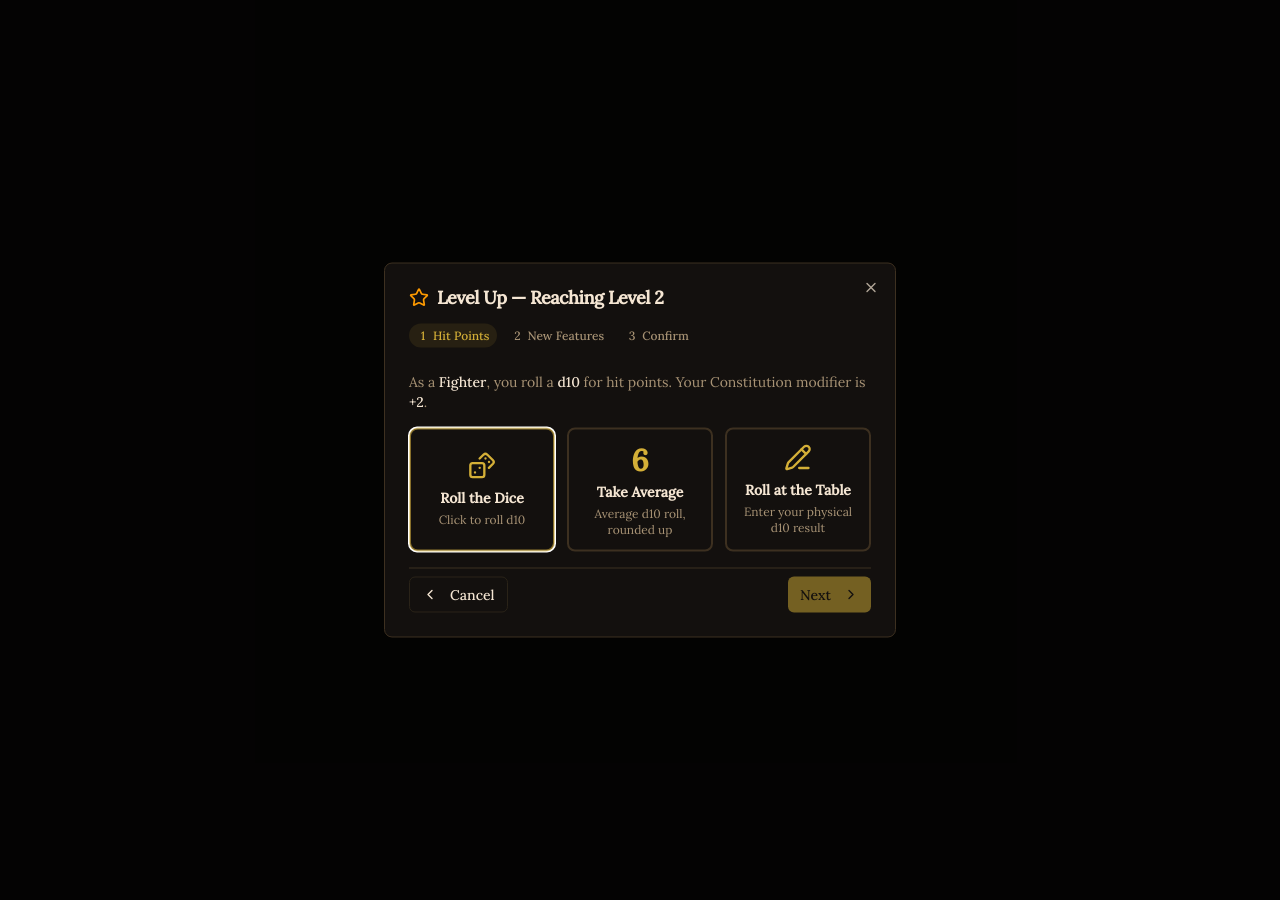
Test: LevelUpWizard › HP step — methods and lock-in › locks the other methods once Take Average is chosen
Click the button with test id "hp-method-average". click: (640, 490)
box: x1=567 y1=428 x2=713 y2=552
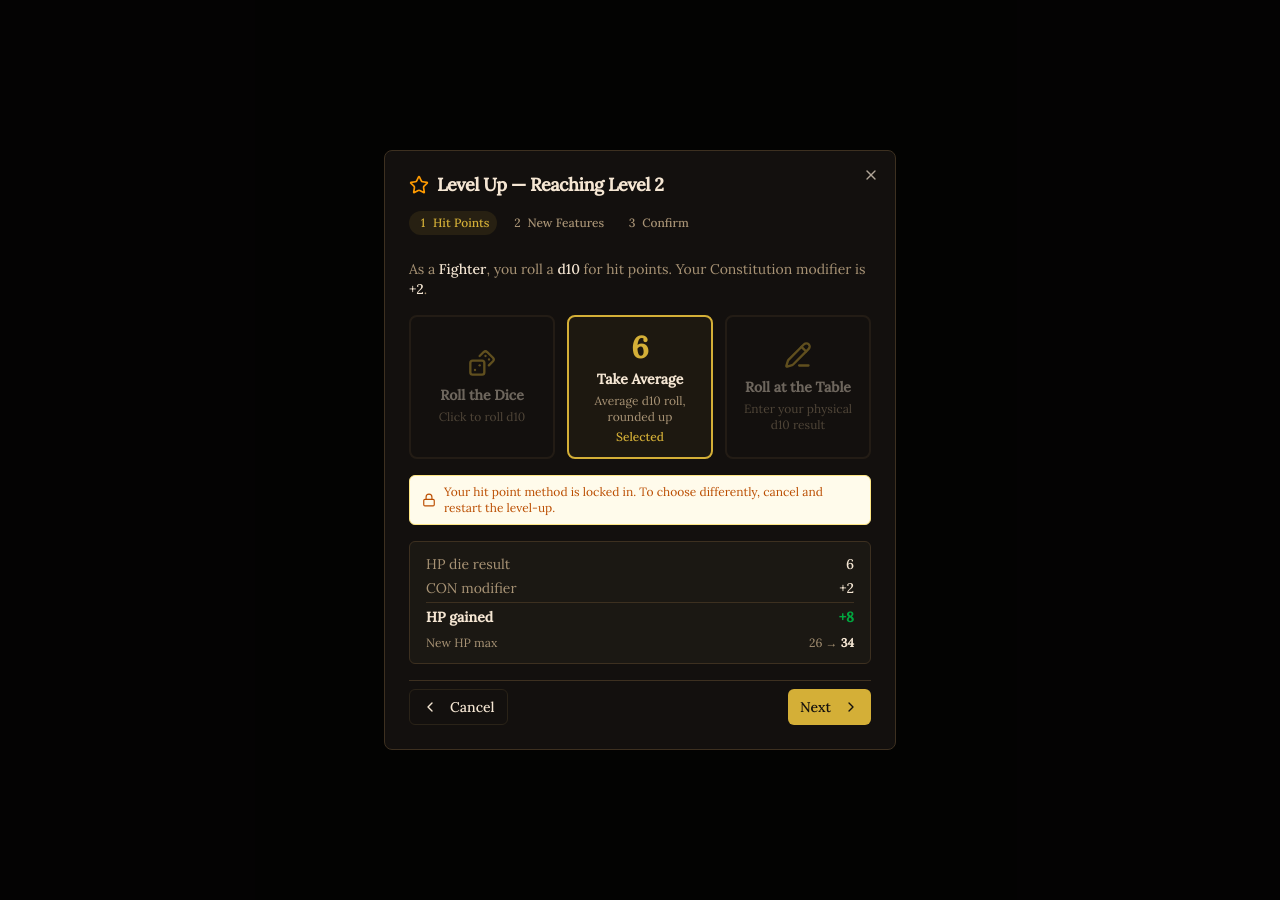
Expected: the button with test id "hp-method-average" is enabled, x1=567 y1=315 x2=713 y2=459
Result: the button with test id "hp-method-roll" is disabled at x1=409 y1=315 x2=555 y2=459
Result: the button with test id "hp-method-manual" is disabled at x1=725 y1=315 x2=871 y2=459
